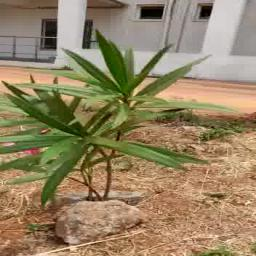OLEANDER: (3, 26, 234, 198)
